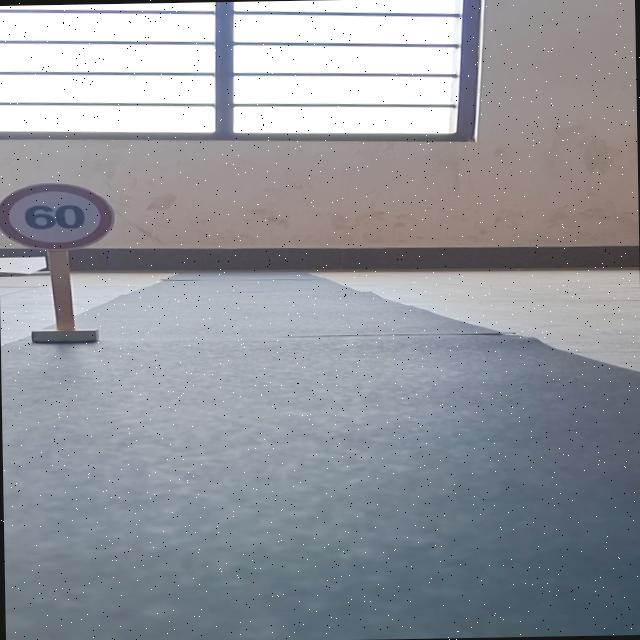Speed60: (0, 179, 122, 254)
